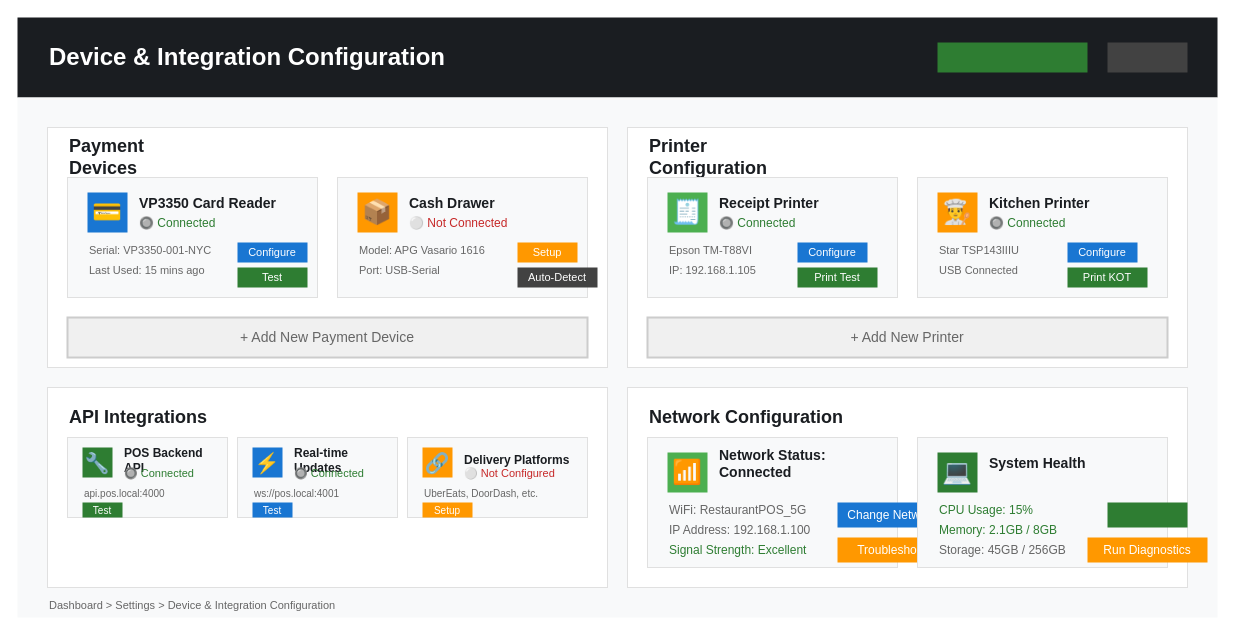
Some shapes in this 1234 by 634 pixel diagram are drawn without their labels. The shapes that lost their labels are listed below. From the top down, each one's centre as x and y in pixels, then its label:
At point 1012,57: "🧪 Test All Connections".
At point 1147,57: "← Settings".
At point 1147,514: "Optimize".
